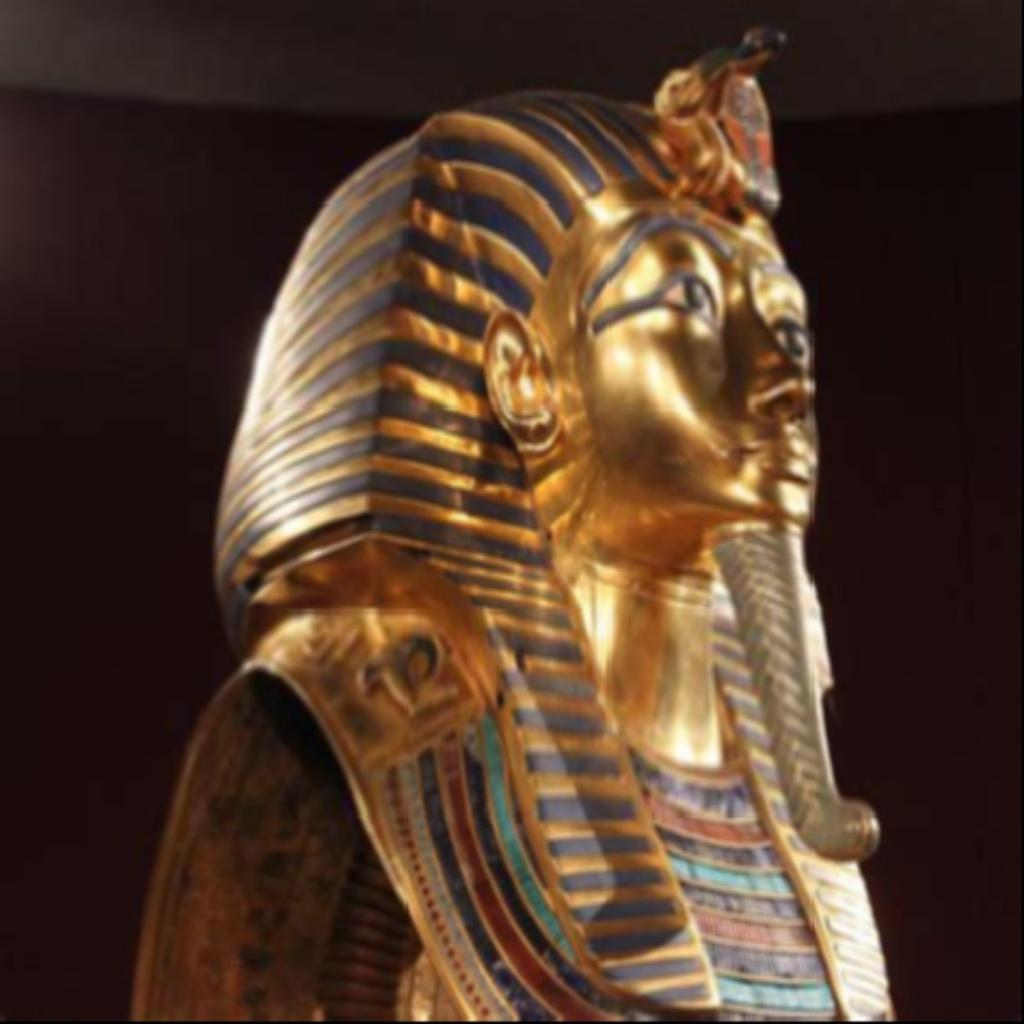Mask of Tutankhamun: (116, 23, 908, 1019)
